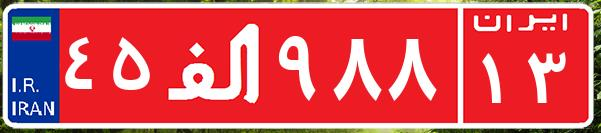1: (475, 38, 525, 113)
3: (525, 38, 570, 115)
4: (57, 26, 110, 107)
5: (110, 28, 158, 105)
8: (385, 28, 445, 110), (330, 28, 385, 110)
9: (273, 28, 330, 110)
الف: (158, 15, 273, 115)
